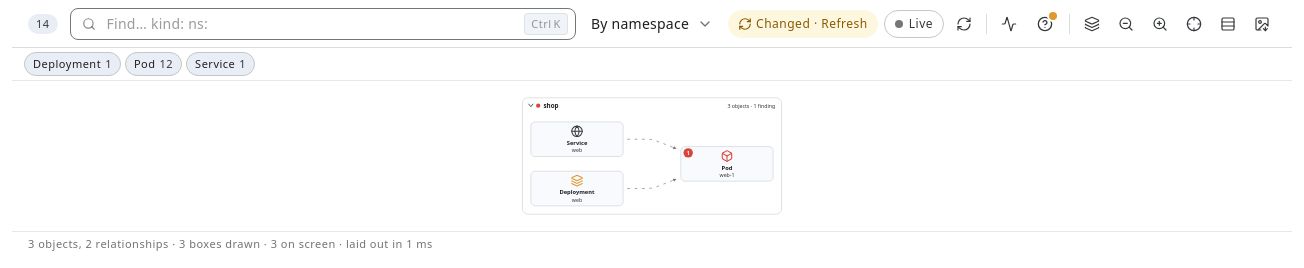
Test: TopologyView › says Changed instead of redrawing, and reads again only when asked
This screenshot has width=1304, height=268.
Click the button "Changed · Refresh" at (803, 24), box [728,10,878,38]
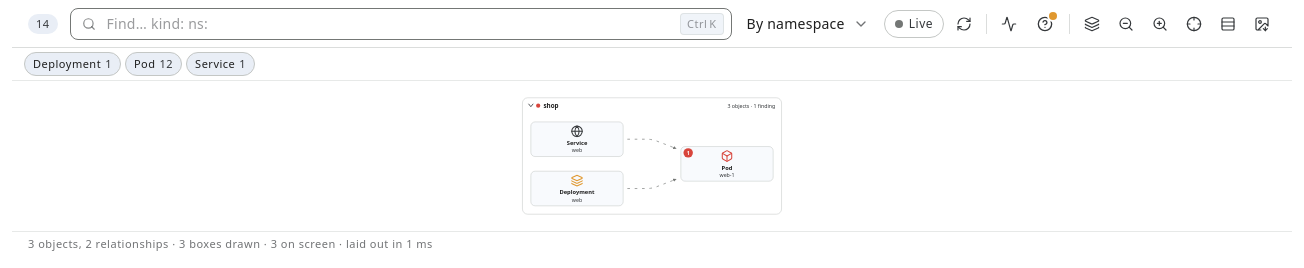
expect the button "Changed · Refresh" is gone: met
